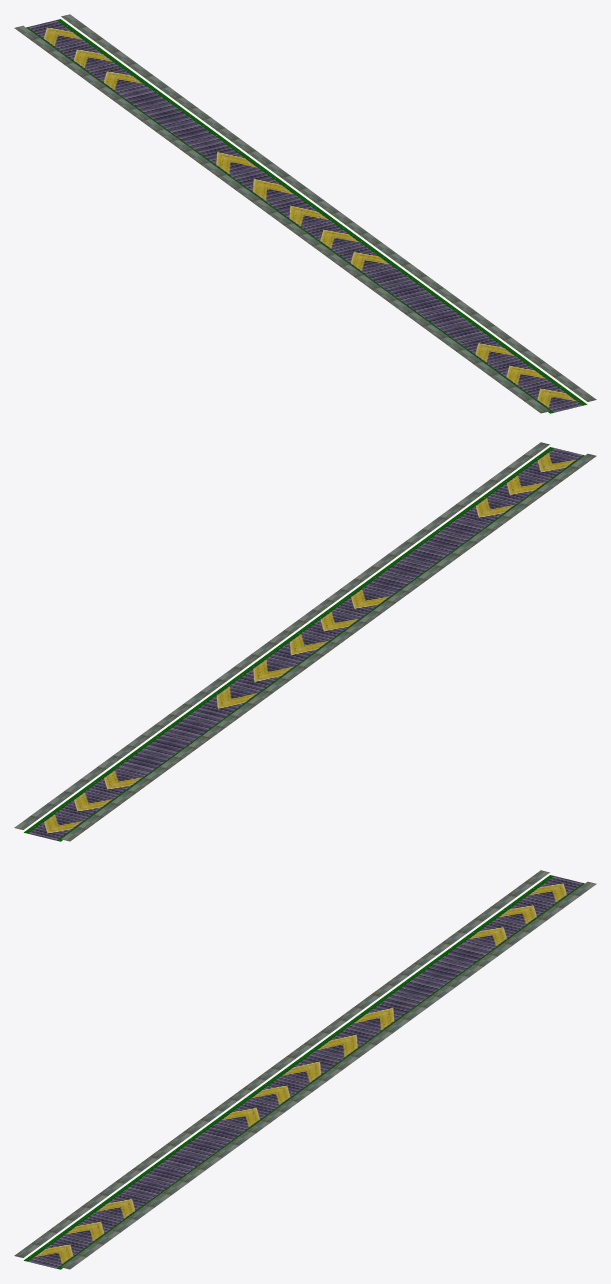
Rendered from STG08_ONS_06.obj.
The picture shows the model from 3 angles, top to bottom: view 1: azimuth 30°, elevation 25°; view 2: azimuth 150°, elevation 25°; view 3: azimuth 330°, elevation 25°; orthographic projection.
Parts seen in each view (by area): view 1: Object_2; view 2: Object_2; view 3: Object_2.
Boxes of the visible parts, <box> form: Object_2: <box>14,14,596,413</box>; Object_2: <box>14,442,596,841</box>; Object_2: <box>14,870,596,1269</box>.
Size of the model in its own units: 240 by 10 by 3900.
Materials: 3 (3 with a texture image).
